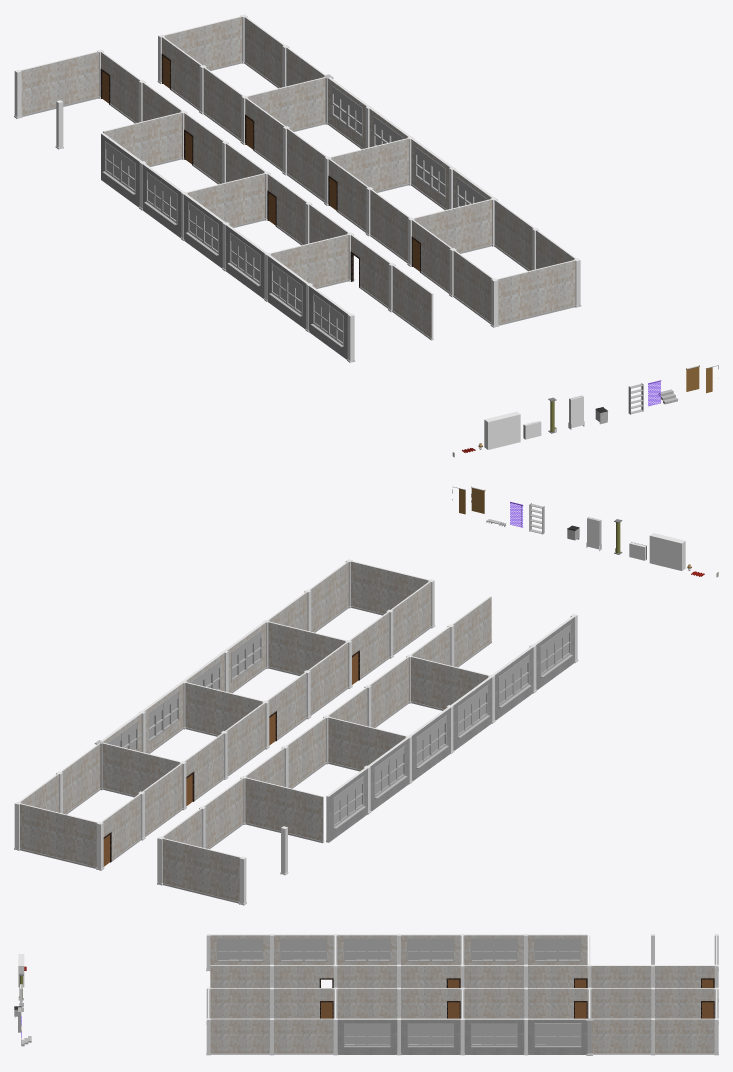
The model's file is Pared_Ventanas.obj.
3 renders of one model, top to bottom at view 1: azimuth 30°, elevation 25°; view 2: azimuth 150°, elevation 25°; view 3: azimuth 270°, elevation 25°, orthographic. The views are drawn at different scales.
Visible parts, largest first — view 1: Mesh63, Mesh22, Mesh26, Mesh56, Mesh53, Mesh12, Mesh36, Mesh7, Mesh34, Mesh6, Mesh87, Mesh77 (+28 smaller); view 2: Mesh22, Mesh26, Mesh53, Mesh36, Mesh34, Mesh56, Mesh12, Mesh7, Mesh63, Mesh86, Mesh74, Mesh88 (+28 smaller); view 3: Mesh64, Mesh74, Mesh71, Mesh72, Mesh70, Mesh73, Mesh62, Mesh75, Mesh77, Mesh89, Mesh88, Mesh84 (+18 smaller).
Boxes of the visible parts, bbox=[...] form: Mesh63: bbox=[497, 260, 575, 325]; Mesh22: bbox=[20, 51, 98, 116]; Mesh26: bbox=[103, 112, 182, 166]; Mesh56: bbox=[413, 199, 492, 253]; Mesh53: bbox=[163, 16, 242, 70]; Mesh12: bbox=[186, 173, 265, 227]; Mesh36: bbox=[247, 77, 325, 131]; Mesh7: bbox=[270, 234, 348, 288]; Mesh34: bbox=[330, 138, 408, 192]; Mesh6: bbox=[392, 265, 433, 340]; Mesh87: bbox=[142, 163, 183, 237]; Mesh77: bbox=[225, 224, 266, 298]; Mesh22: bbox=[162, 838, 240, 903]; Mesh26: bbox=[245, 777, 324, 843]; Mesh53: bbox=[20, 803, 97, 868]; Mesh36: bbox=[102, 742, 180, 797]; Mesh34: bbox=[185, 682, 263, 736]; Mesh56: bbox=[268, 621, 346, 675]; Mesh12: bbox=[328, 717, 406, 771]; Mesh7: bbox=[411, 656, 489, 710]; Mesh63: bbox=[351, 561, 429, 615]; Mesh86: bbox=[326, 767, 367, 842]; Mesh74: bbox=[142, 682, 183, 753]; Mesh88: bbox=[492, 646, 533, 720]; Mesh64: bbox=[337, 1018, 397, 1054]; Mesh74: bbox=[464, 1018, 524, 1054]; Mesh71: bbox=[591, 1018, 651, 1054]; Mesh72: bbox=[274, 1018, 333, 1054]; Mesh70: bbox=[655, 1018, 714, 1054]; Mesh73: bbox=[401, 1018, 460, 1054]; Mesh62: bbox=[210, 1018, 269, 1054]; Mesh75: bbox=[528, 1018, 587, 1054]; Mesh77: bbox=[337, 934, 396, 965]; Mesh89: bbox=[210, 934, 269, 965]; Mesh88: bbox=[274, 934, 333, 965]; Mesh84: bbox=[401, 934, 460, 965].
Size of the model in its own units: 20.44 by 3.5 by 61.49.
